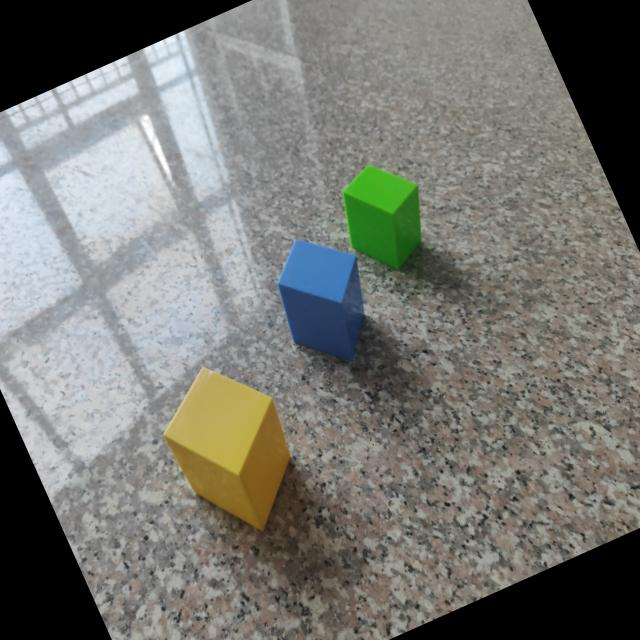blue: (278, 240, 367, 365)
green: (344, 165, 423, 270)
yellow: (163, 368, 293, 532)
